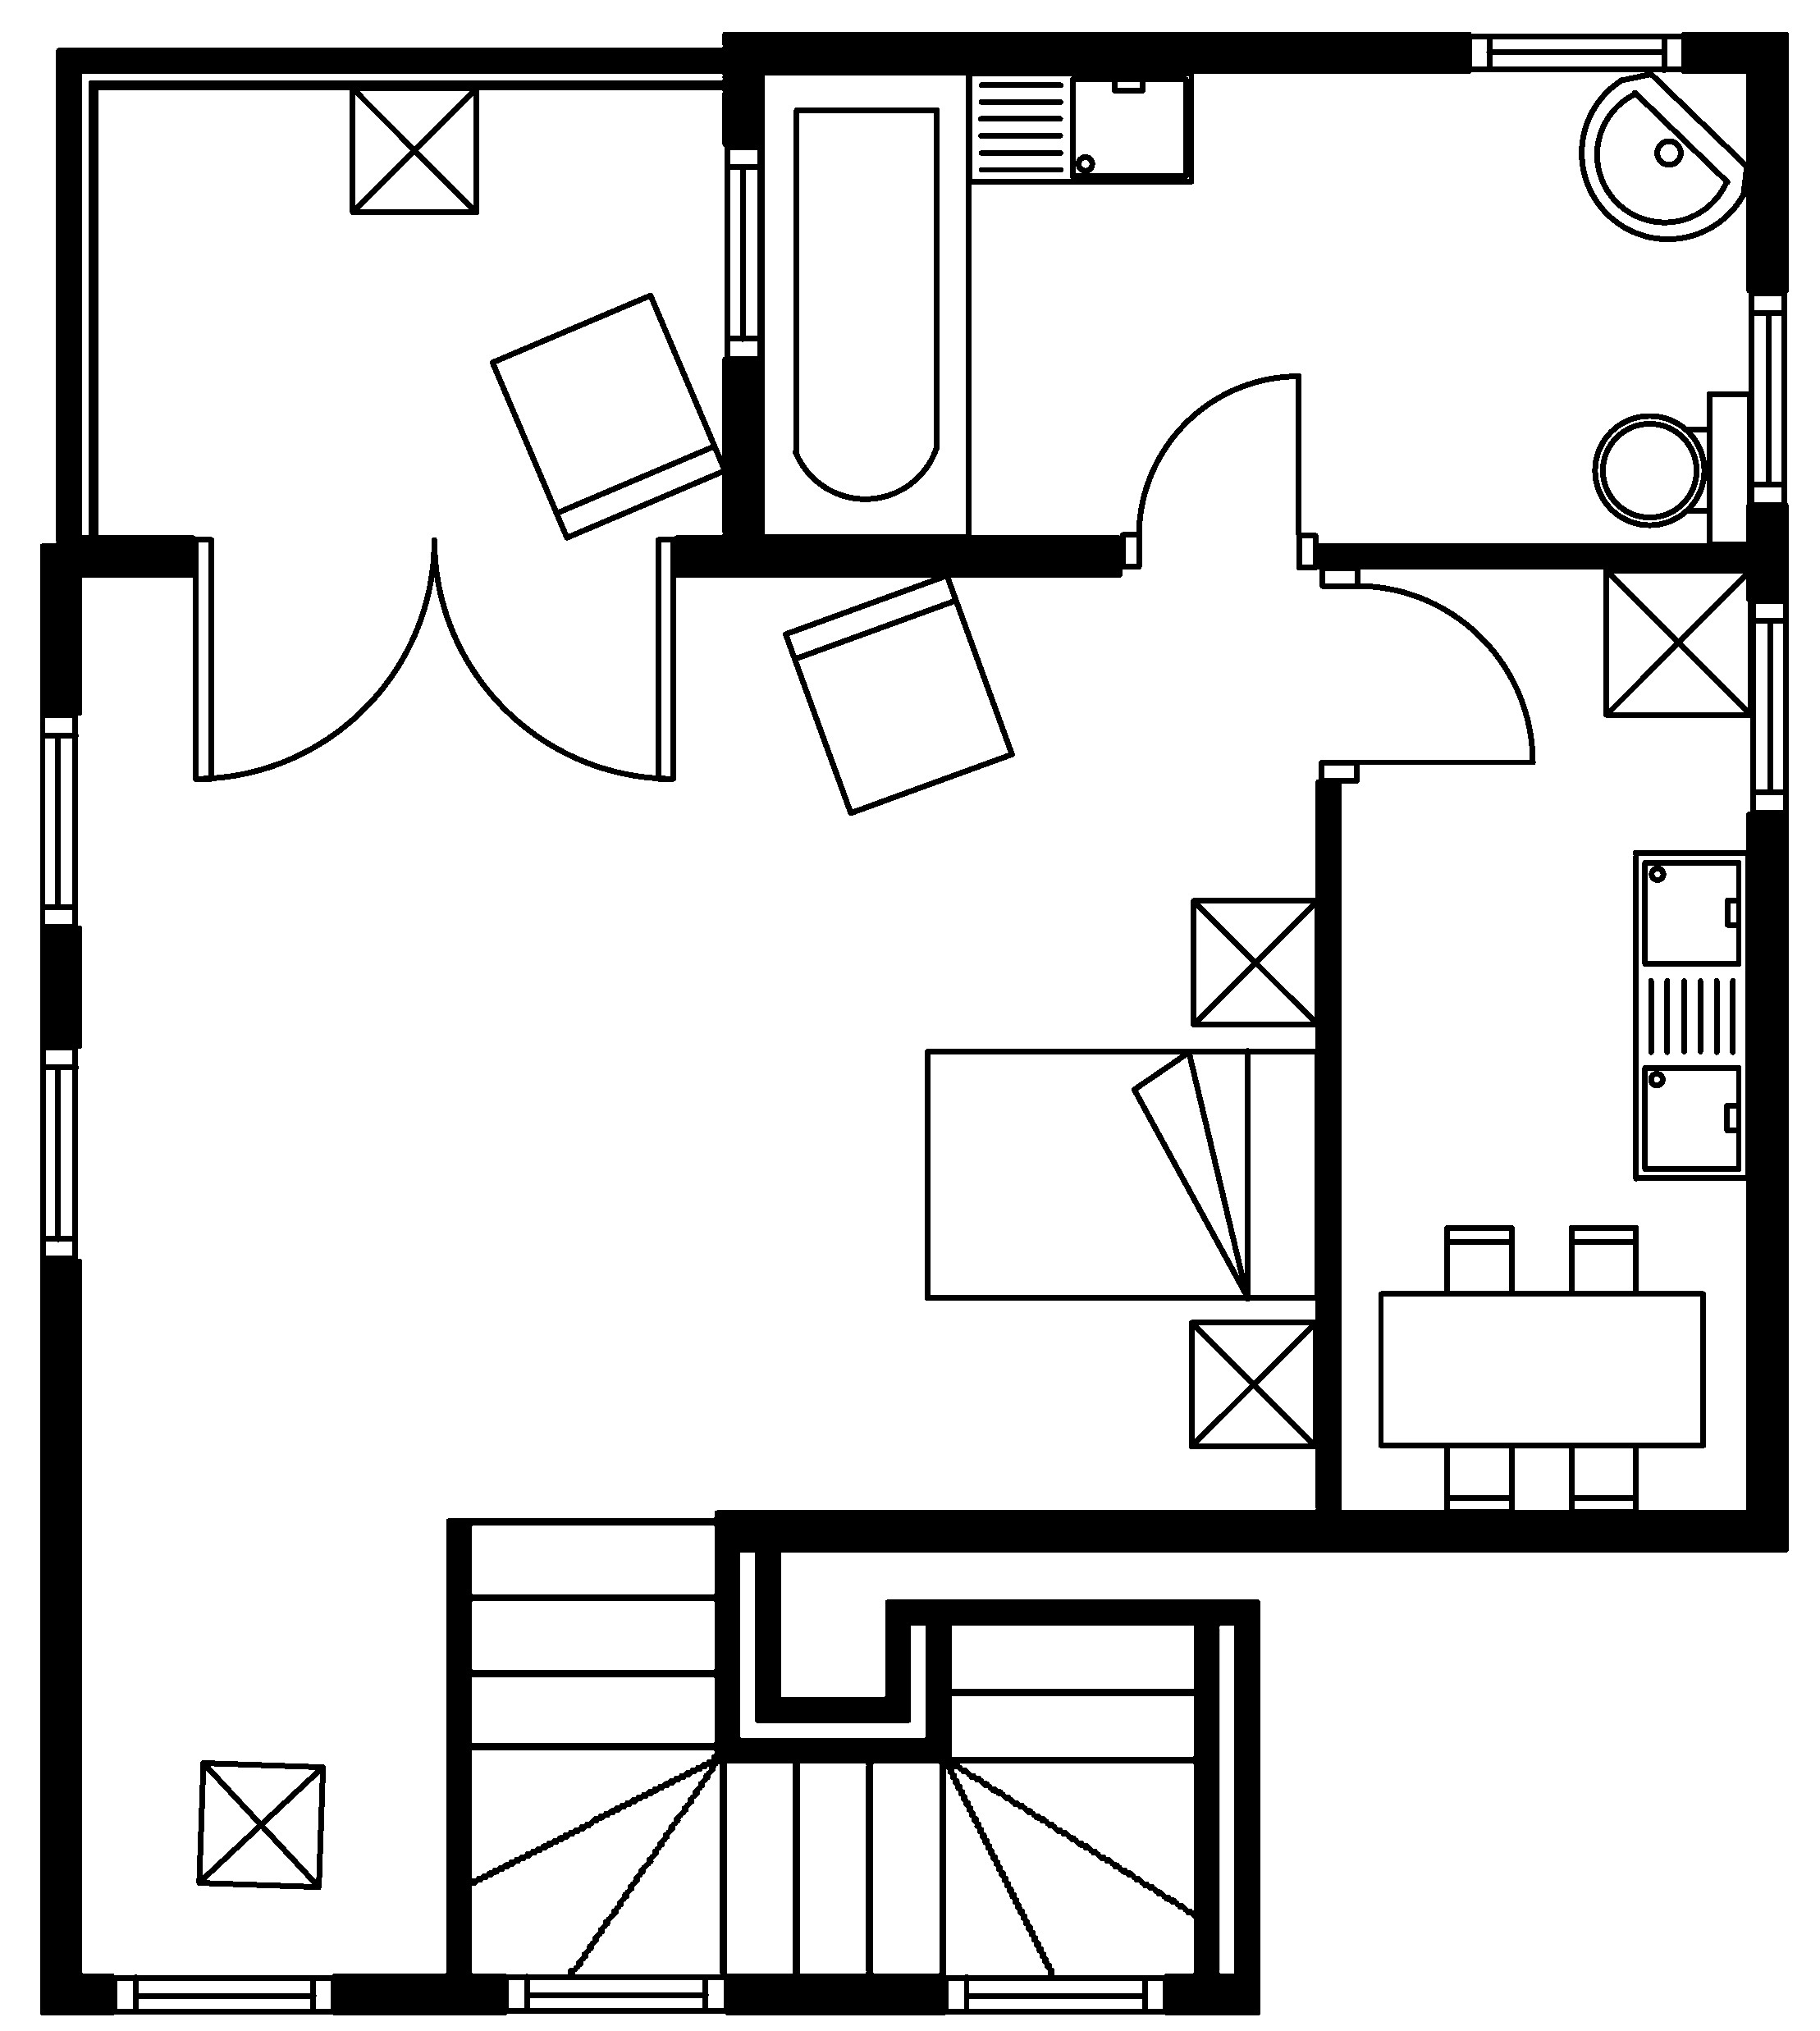bed: (922, 1047, 1321, 1302)
coffee_table: (1602, 566, 1753, 719), (1186, 1318, 1319, 1449), (1189, 896, 1321, 1028), (348, 84, 480, 214), (195, 1759, 325, 1890)
dining_table: (1376, 1223, 1706, 1516)
large_sink: (1592, 388, 1753, 548)
sink: (964, 69, 1195, 184)
small_sink: (1578, 70, 1750, 241)
small_sofa: (488, 290, 727, 541), (782, 571, 1015, 815)
tub: (757, 69, 971, 539)
twin_sink: (1630, 847, 1750, 1182)
